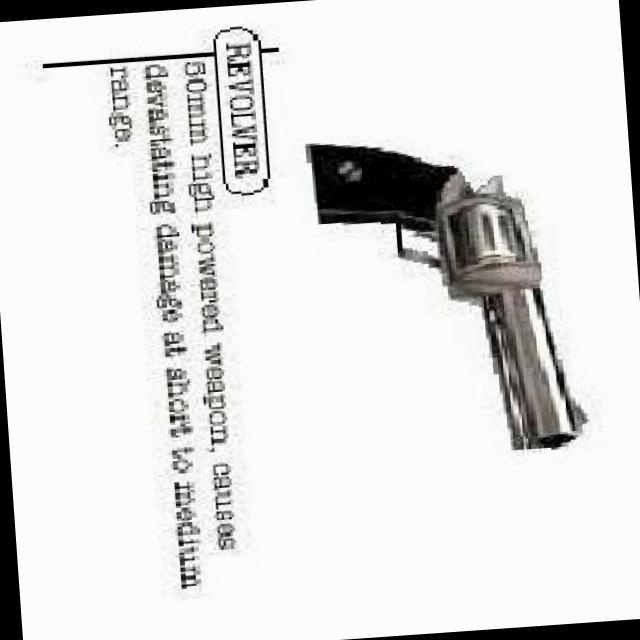handgun: (308, 123, 592, 464)
